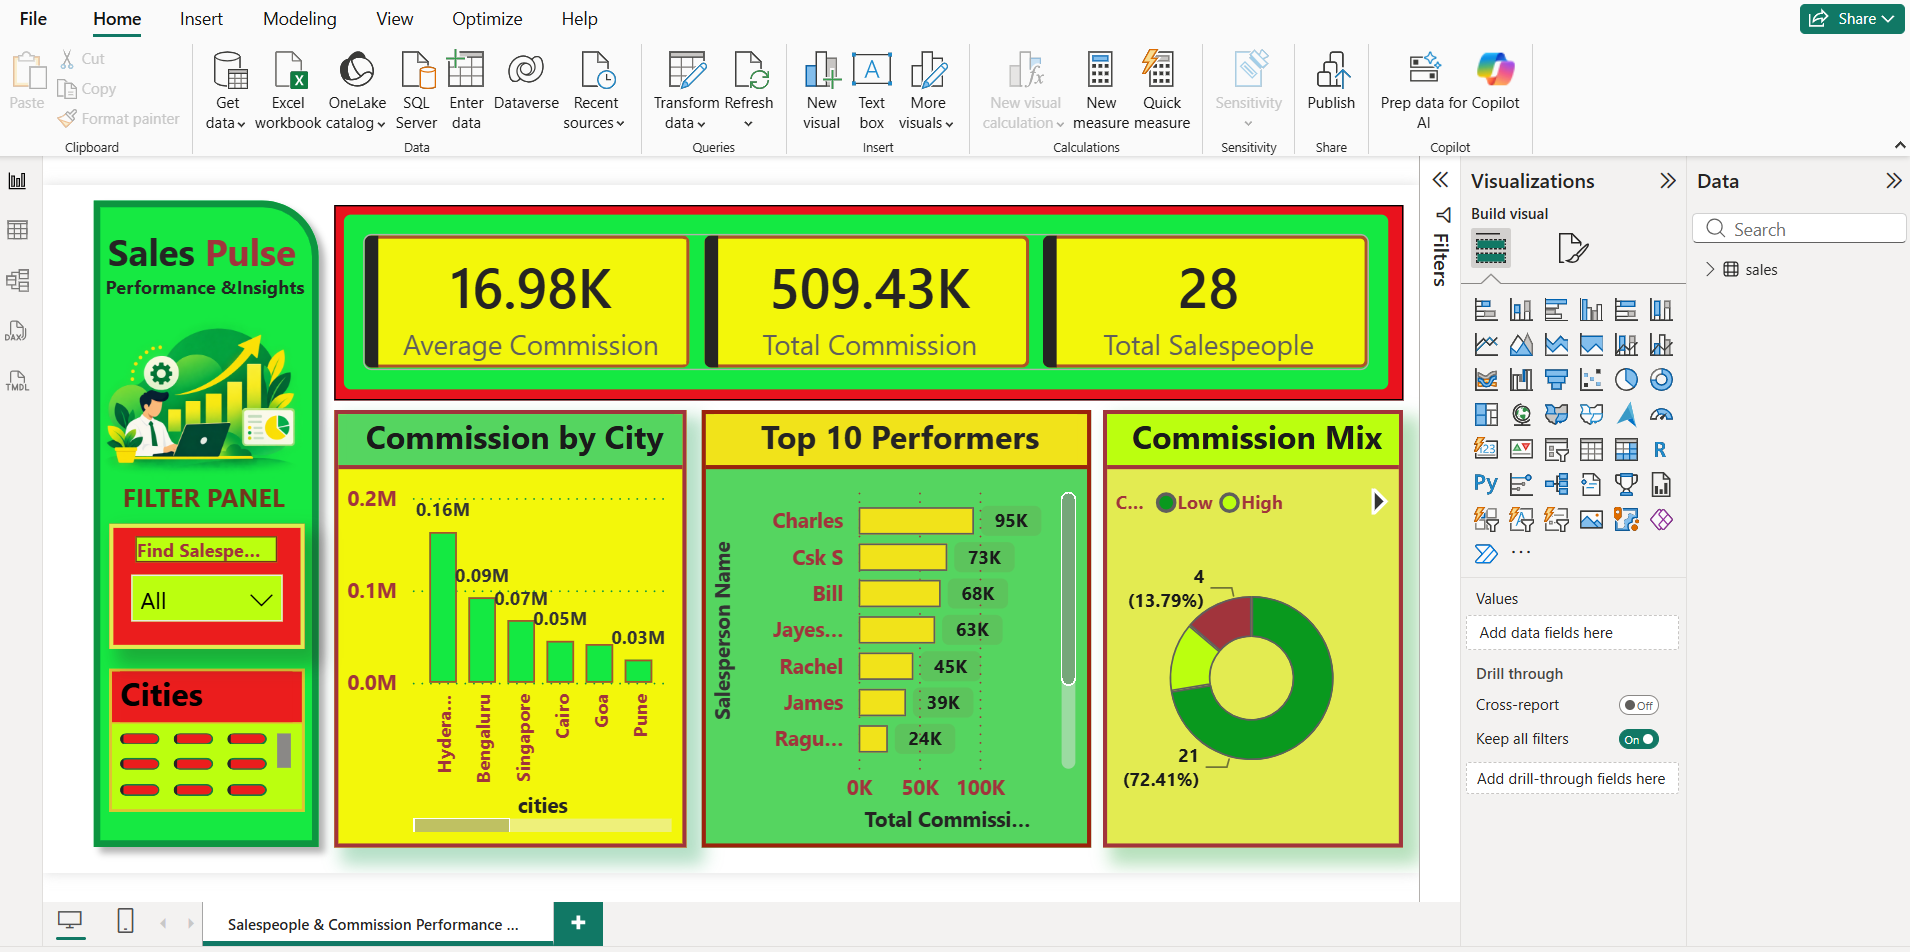

What the dashboard file says about the page in this screenshot:
{"tool":"powerbi","page":{"name":"Salespeople & Commission Performance Dashboard","canvas":[800,400],"ordinal":0},"visuals":[{"type":"shape","box":[20.3,0,149,393.9],"z":0},{"type":"textbox","box":[32.7,18.9,136.6,65.4],"z":1000},{"type":"textbox","box":[24.3,44.3,167.1,46.4],"z":2000},{"type":"cardVisual","fields":{"Data":["sales.Average Commission","sales.Total Commission","sales.Total Salespeople"]},"box":[169.3,11.6,621.4,113.4],"z":3000},{"type":"clusteredColumnChart","title":"Commission by City","fields":{"Category":["sales.City"],"Y":["Sum(sales.Comm)"]},"box":[169.3,130.8,204.9,254.4],"z":4000},{"type":"clusteredBarChart","title":"Top 10 Performers","fields":{"Category":["sales.Sname"],"Y":["Sum(sales.Comm)"]},"box":[383,130.8,226,254.4],"z":5000},{"type":"donutChart","title":"Commission Mix","fields":{"Category":["sales.Commission Band"],"Y":["Count(sales.Snum)"]},"box":[616.3,130.8,174.4,254.4],"z":6000},{"type":"advancedSlicerVisual","title":"Cities","fields":{"Values":["sales.City"]},"box":[38.5,281.3,113.4,83.6],"z":7000},{"type":"slicer","fields":{"Values":["sales.Sname"]},"box":[38.5,196.9,113.4,72.7],"z":8000},{"type":"textbox","box":[41.4,166.4,118.5,30.5],"z":9000},{"type":"image","box":[32.7,0,118.5,199.9],"z":10000}]}

Visuals, with their boxes on the page's 800x400 design canvas (x1, y1, x2, y2). These are canvas units, not pixel positions in the 1910x952 screenshot, which may show the page scaled, cropped or inside an application window:
shape: l=20, t=0, r=169, b=394
textbox: l=33, t=19, r=169, b=84
textbox: l=24, t=44, r=191, b=91
cardVisual - sales.Average Commission x sales.Total Commission: l=169, t=12, r=791, b=125
"Commission by City" clusteredColumnChart: l=169, t=131, r=374, b=385
"Top 10 Performers" clusteredBarChart: l=383, t=131, r=609, b=385
"Commission Mix" donutChart: l=616, t=131, r=791, b=385
"Cities" advancedSlicerVisual: l=38, t=281, r=152, b=365
slicer - sales.Sname: l=38, t=197, r=152, b=270
textbox: l=41, t=166, r=160, b=197
image: l=33, t=0, r=151, b=200
